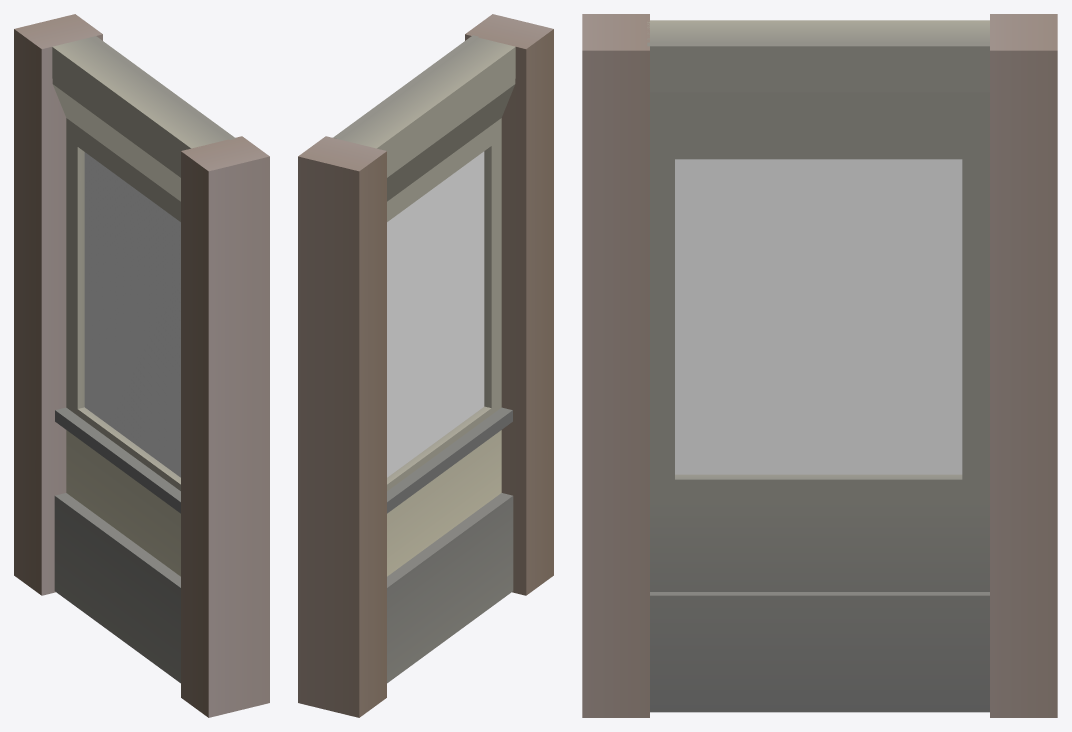
Rendered from B01_fenetre_2.fbx.
3 renders of one model, left to right at view 1: azimuth 30°, elevation 25°; view 2: azimuth 150°, elevation 25°; view 3: azimuth 270°, elevation 25°, orthographic. The views are drawn at different scales.
Parts seen in each view (by area): view 1: B01_fenetre_2; view 2: B01_fenetre_2; view 3: B01_fenetre_2.
Part boxes in pixels (left/top/right/bottom): B01_fenetre_2: left=14, top=14, right=269, bottom=717; B01_fenetre_2: left=298, top=14, right=553, bottom=717; B01_fenetre_2: left=582, top=14, right=1057, bottom=717.
Bounding box in the file's own units: 35.78 × 305 × 197.
